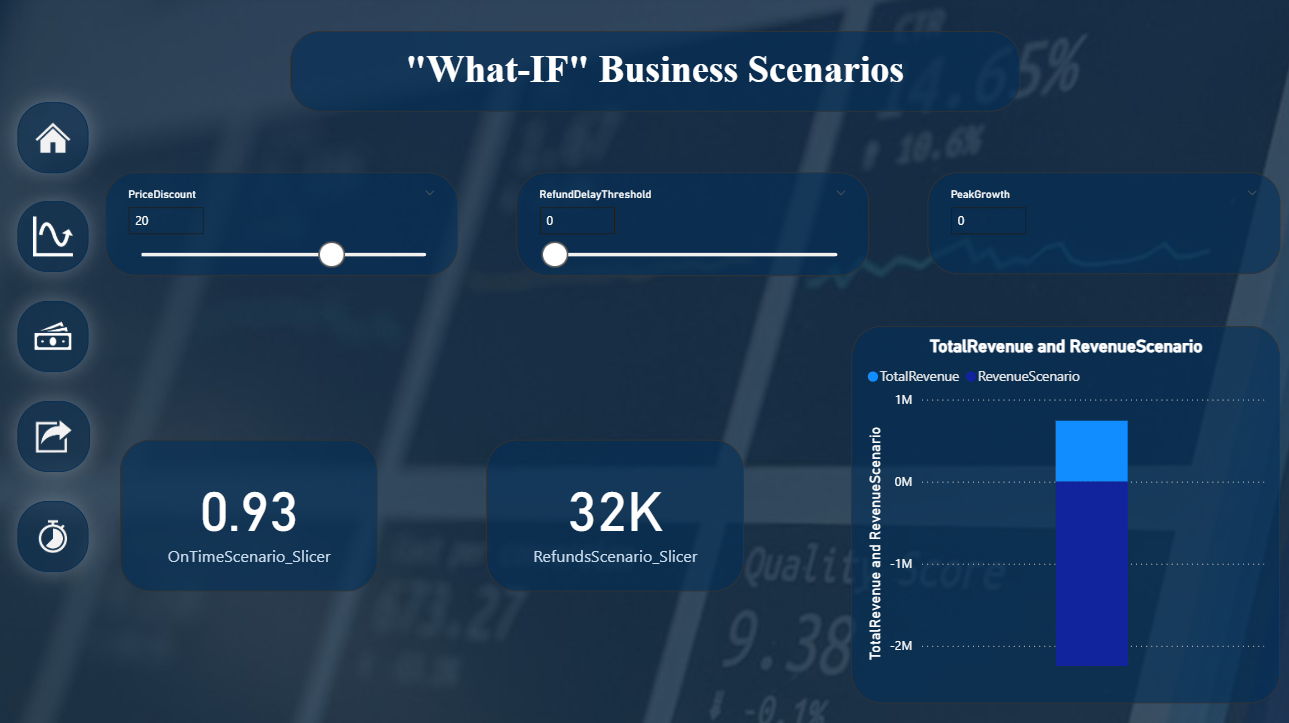

Layout of this report page (visuals, bound fields, positions):
{"tool":"powerbi","page":{"name":"“What-If” Business Scenarios ","canvas":[1280,720],"ordinal":5},"visuals":[{"type":"slicer","fields":{"Values":["RefundDelayThreshold.RefundDelayThreshold"]},"box":[511.6,172.5,346.1,101.5],"z":0},{"type":"card","fields":{"Values":["_measure.RefundsScenario_Slicer"]},"box":[481.6,435,253.1,149.2],"z":1000},{"type":"slicer","fields":{"Values":["PriceDiscount.PriceDiscount"]},"box":[108,172.5,346.1,101.5],"z":2000},{"type":"columnChart","fields":{"Y":["_measure.TotalRevenue","_measure.RevenueScenario"]},"box":[840.5,324.3,420.7,370.5],"z":3000},{"type":"card","fields":{"Values":["Calendar.OnTimeScenario_Slicer"]},"box":[122.7,435,253.1,149.2],"z":4000},{"type":"slicer","fields":{"Values":["PeakGrowth.PeakGrowth"]},"box":[915.1,173.1,346.1,100.3],"z":5000},{"type":"textbox","title":" Customer Impact on delay and refund","box":[289.3,34.9,716.6,79.5],"z":6000},{"type":"image","box":[22.1,201.8,69.7,69.7],"z":7000},{"type":"image","box":[22.1,299.6,69.7,69.7],"z":8000},{"type":"image","box":[21.5,397.4,70.9,69.7],"z":9000},{"type":"image","box":[22.1,495.2,69.7,69.7],"z":10000},{"type":"image","box":[22.1,103.9,69.7,69.7],"z":11000}]}

Visuals, with their boxes in screenshot pixels (x1, y1, x2, y2), scaled from the page's 1280x720 canvas onto the 1289x723 screenshot:
slicer - RefundDelayThreshold.RefundDelayThreshold: detection(515, 173, 864, 275)
card - _measure.RefundsScenario_Slicer: detection(485, 437, 740, 587)
slicer - PriceDiscount.PriceDiscount: detection(109, 173, 457, 275)
columnChart - _measure.TotalRevenue x _measure.RevenueScenario: detection(846, 326, 1270, 698)
card - Calendar.OnTimeScenario_Slicer: detection(124, 437, 378, 587)
slicer - PeakGrowth.PeakGrowth: detection(922, 174, 1270, 275)
" Customer Impact on delay and refund" textbox: detection(291, 35, 1013, 115)
image: detection(22, 203, 92, 273)
image: detection(22, 301, 92, 371)
image: detection(22, 399, 93, 469)
image: detection(22, 497, 92, 567)
image: detection(22, 104, 92, 174)
